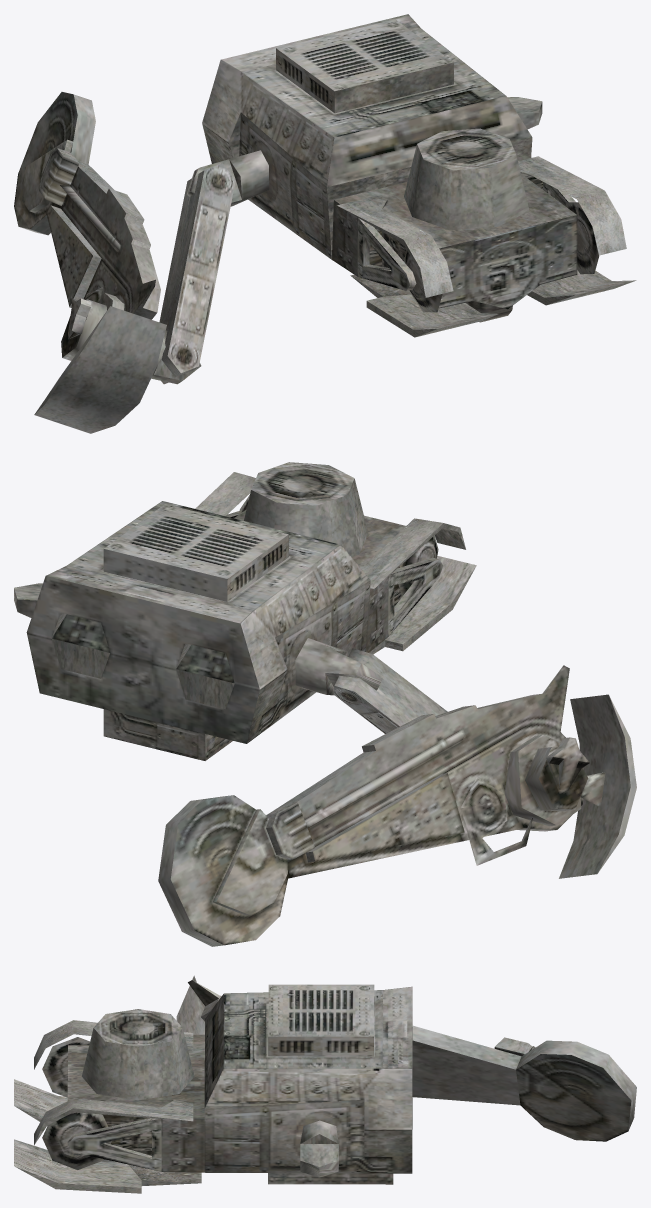
Rendered from poi_all_atst_debris_01_l1.fbx.
3 renders of one model, top to bottom at view 1: azimuth 30°, elevation 25°; view 2: azimuth 150°, elevation 25°; view 3: azimuth 270°, elevation 25°, orthographic. The views are drawn at different scales.
Parts seen in each view (by area): view 1: mesh_node; view 2: mesh_node; view 3: mesh_node.
Part boxes in pixels (bbox=[...]): mesh_node: bbox=[14, 14, 636, 433]; mesh_node: bbox=[14, 462, 636, 946]; mesh_node: bbox=[14, 975, 636, 1193].
Size of the model in its own units: 3.51 by 1.71 by 3.9.
